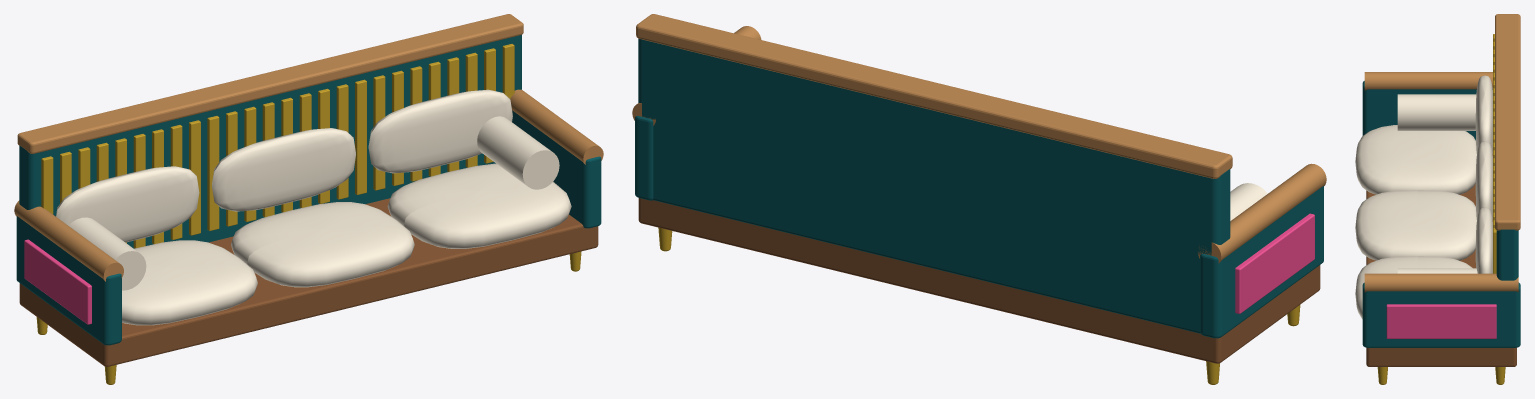
File: lobby-sofa.glb
3 views of the same model, side by side, from view 1: azimuth 30°, elevation 25°; view 2: azimuth 150°, elevation 25°; view 3: azimuth 270°, elevation 25° (orthographic). The views are drawn at different scales.
Visible parts, largest first — view 1: frame, back.panel, back.rail, seat.mid, seat.right, back.cushion.mid, seat.left, back.cushion.right, back.cushion.left, arm.left, bolster.right, arm.right (+28 smaller); view 2: back.panel, frame, back.rail, arm.left, arm.left.pan, arm.left.cap, arm.right, bolster.left; view 3: seat.mid, seat.left, back.rail, arm.right, arm.right.pan, frame, bolster.left, arm.right.cap, arm.left.cap, arm.left, seat.right, back.panel (+7 smaller).
Boxes of the visible parts, x1,y1,x2,y2 form: frame: [19, 198, 598, 366]; back.panel: [19, 35, 521, 248]; back.rail: [17, 14, 523, 153]; seat.mid: [231, 202, 414, 287]; seat.right: [387, 163, 571, 248]; back.cushion.mid: [212, 128, 355, 211]; seat.left: [122, 240, 257, 325]; back.cushion.right: [368, 89, 512, 173]; back.cushion.left: [56, 166, 199, 242]; arm.left: [16, 216, 121, 345]; bolster.right: [477, 116, 559, 189]; arm.right: [512, 110, 601, 228]; back.panel: [638, 38, 1230, 333]; frame: [638, 198, 1320, 363]; back.rail: [636, 14, 1232, 178]; arm.left: [1200, 186, 1323, 338]; arm.left.pan: [1235, 213, 1314, 313]; arm.left.cap: [1198, 163, 1326, 263]; arm.right: [635, 116, 653, 200]; bolster.left: [1230, 183, 1267, 220]; seat.mid: [1355, 190, 1476, 260]; seat.left: [1355, 125, 1476, 194]; back.rail: [1495, 14, 1520, 230]; arm.right: [1362, 282, 1520, 347]; arm.right.pan: [1386, 304, 1496, 338]; frame: [1366, 154, 1516, 366]; bolster.left: [1397, 94, 1476, 130]; arm.right.cap: [1364, 273, 1518, 292]; arm.left.cap: [1364, 72, 1492, 90]; arm.left: [1362, 81, 1492, 140]; seat.right: [1355, 256, 1472, 319]; back.panel: [1496, 229, 1518, 280].
Bounding box in the file's own units: 2.74 × 1.01 × 0.9.
